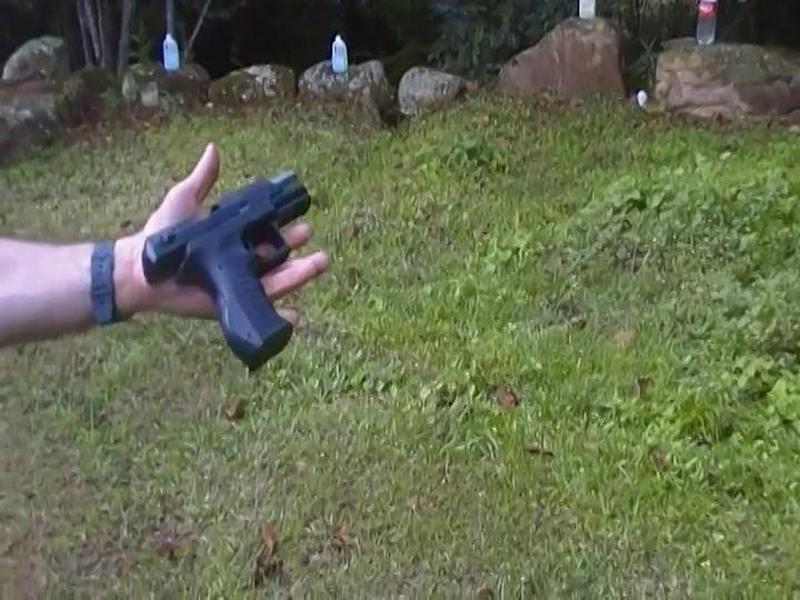Pistola: (128, 164, 333, 382)
